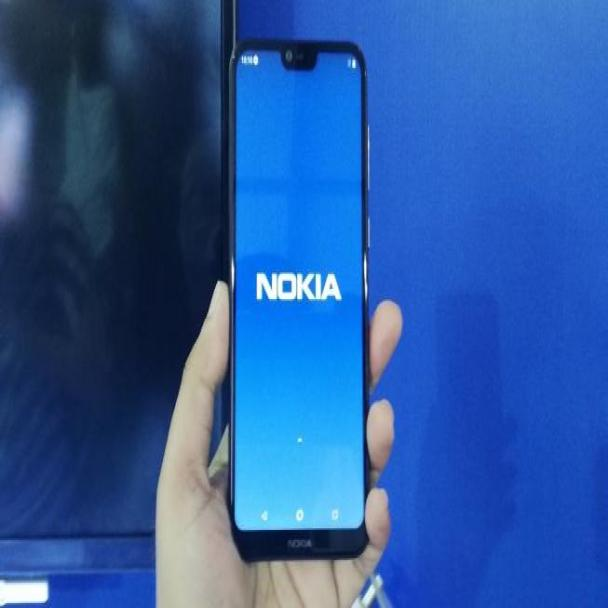Handphone: (226, 34, 369, 556)
